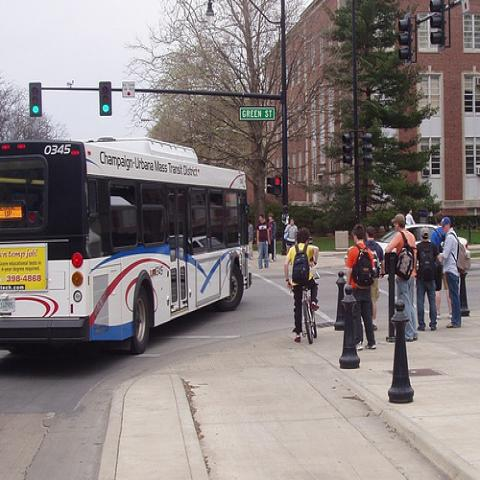bus: (0, 142, 251, 356)
car: (345, 224, 471, 274)
